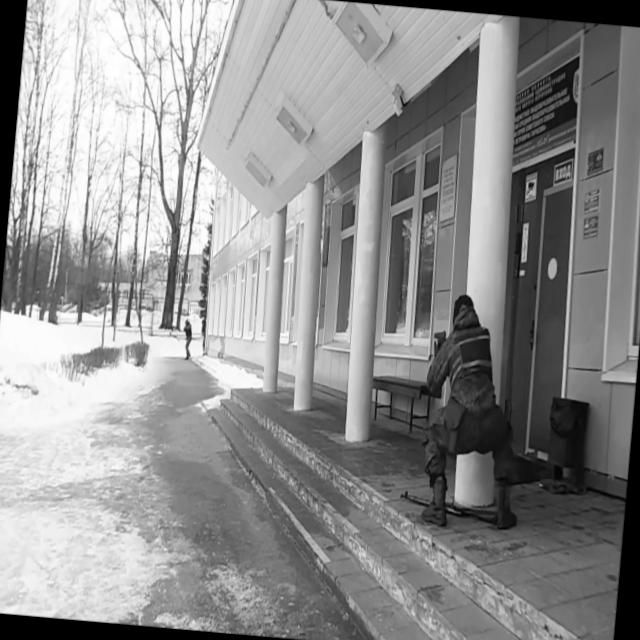gun: (397, 488, 500, 526), (432, 328, 447, 347)
person: (180, 318, 194, 362)
person with a gun: (407, 290, 530, 542)
